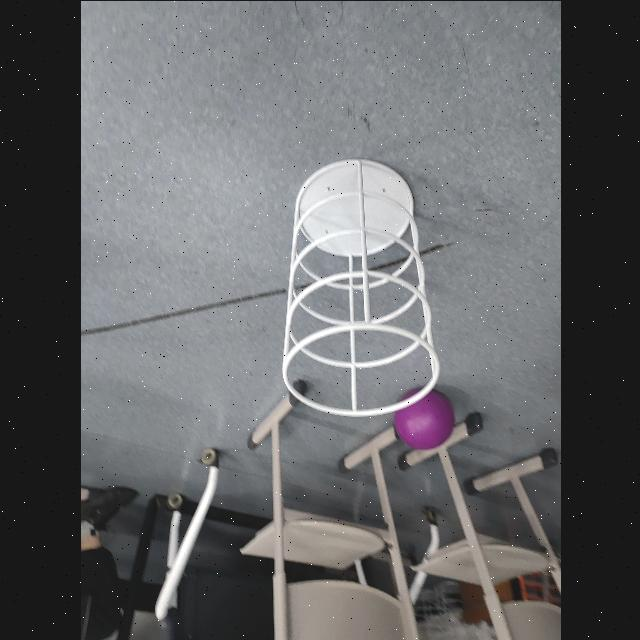S: (278, 153, 440, 419)
